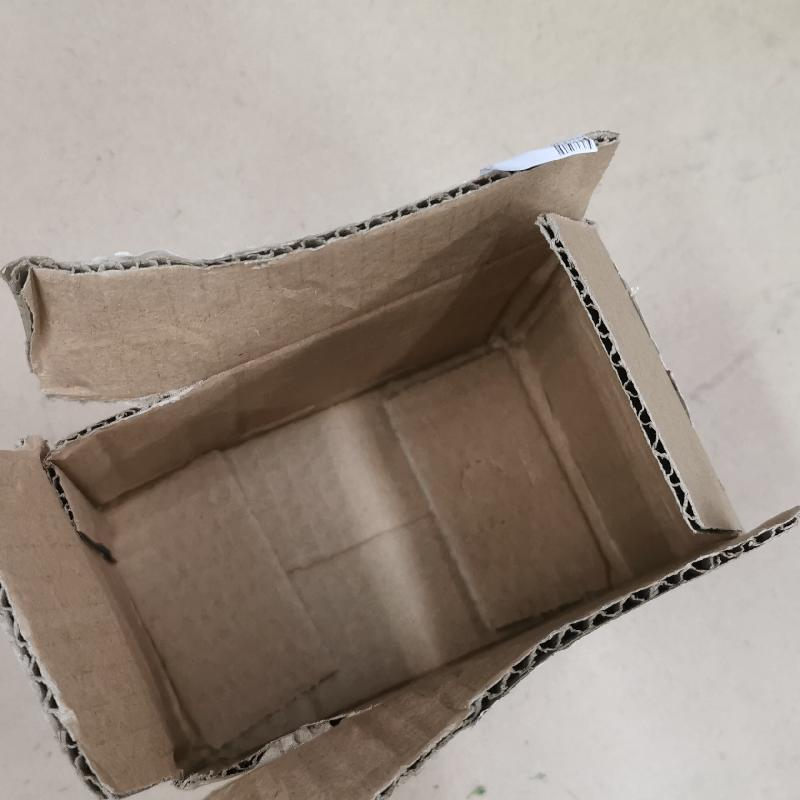boxes: (0, 128, 799, 799)
